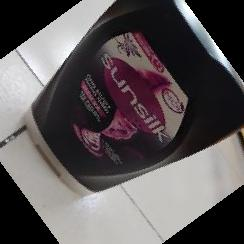sunsilk black: (22, 1, 244, 197)
